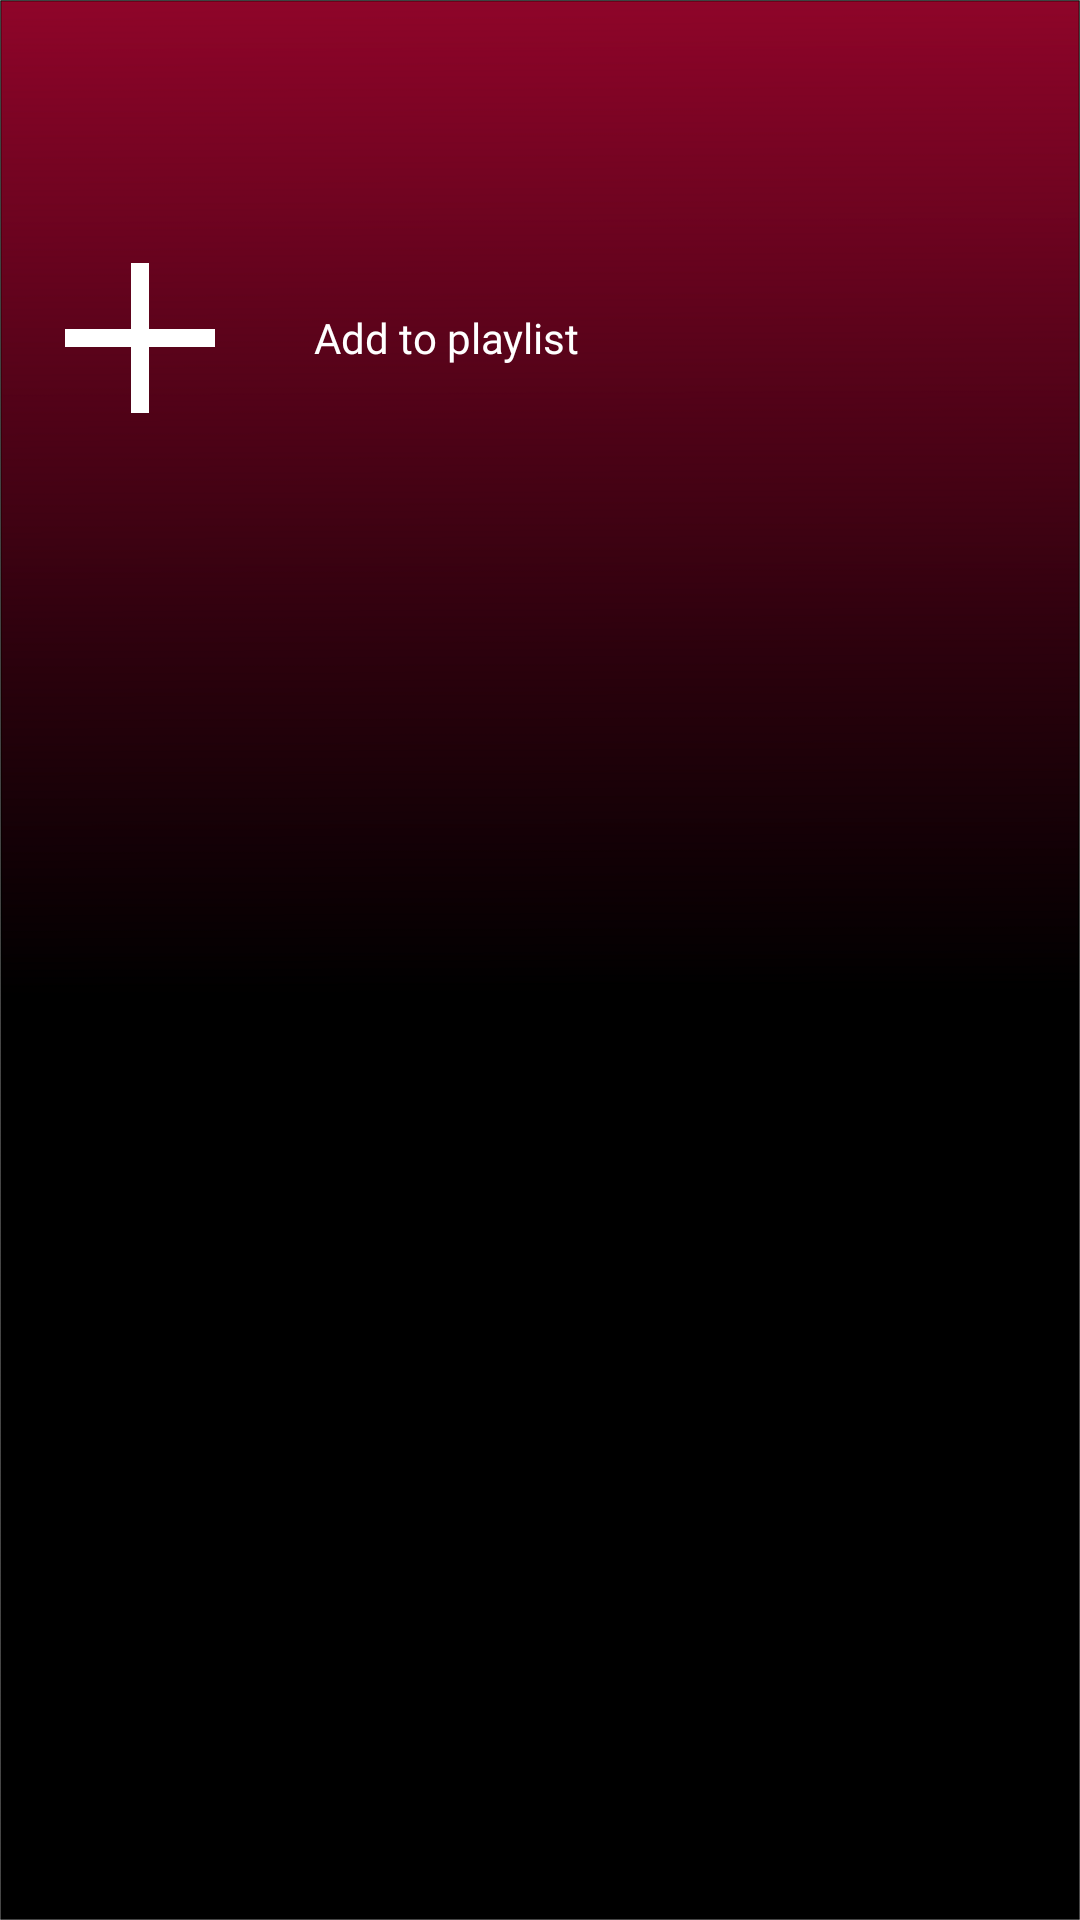

Icon click points for this 1080x1920 phone screenshot, format (x=x, y=y):
create: (x=140, y=338)
